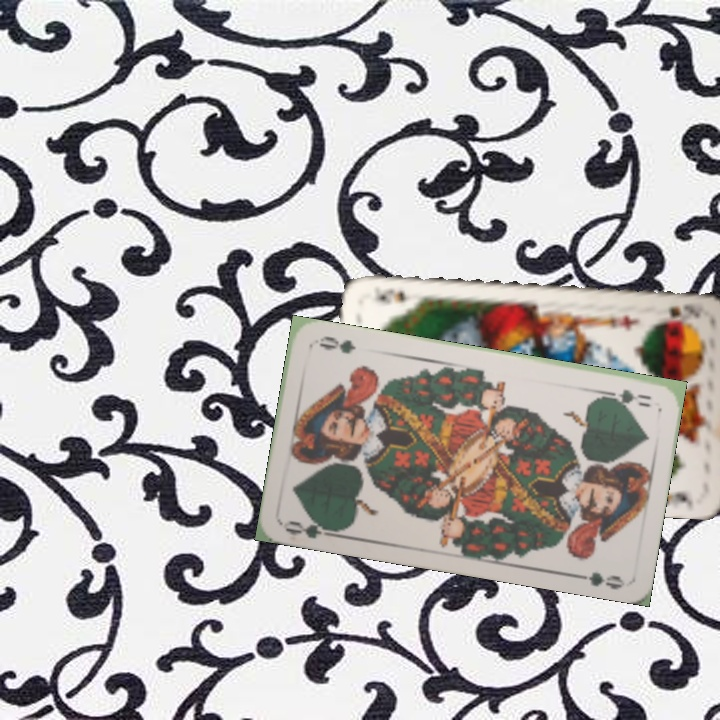GO: (281, 513, 341, 542), (598, 385, 654, 410)
SK: (665, 299, 703, 324)
